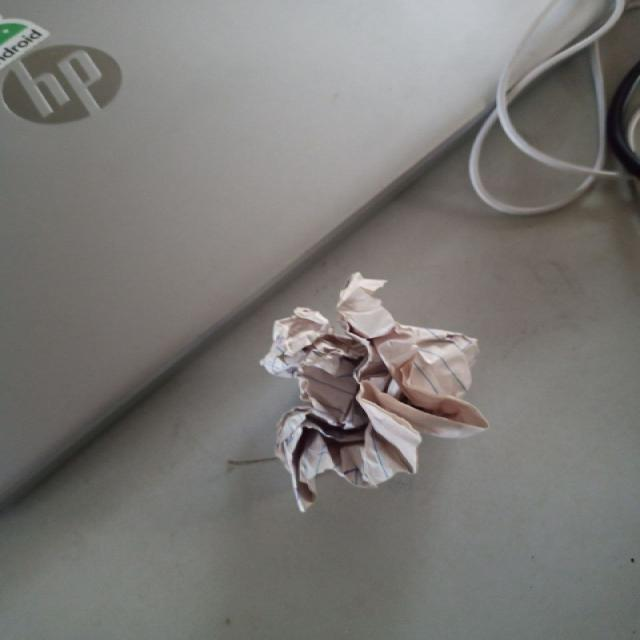Paper: (259, 275, 488, 515)
